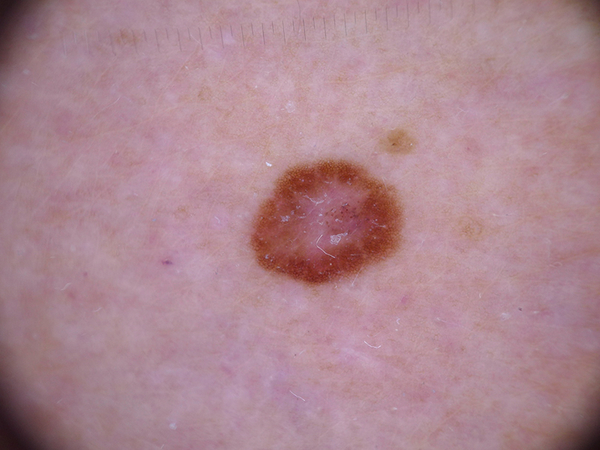Detected Lesion: (244, 144, 412, 289)
